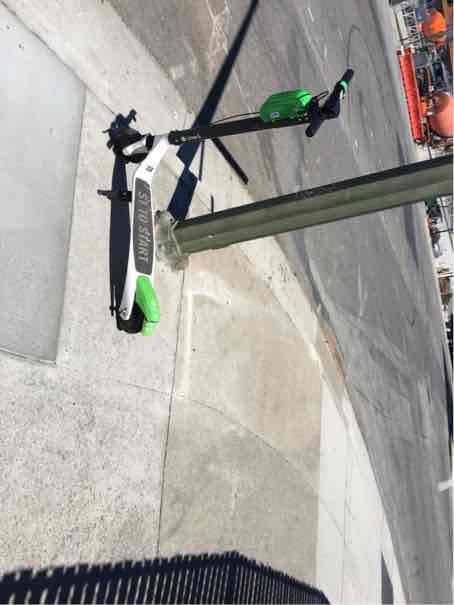scooter: (107, 62, 367, 359)
